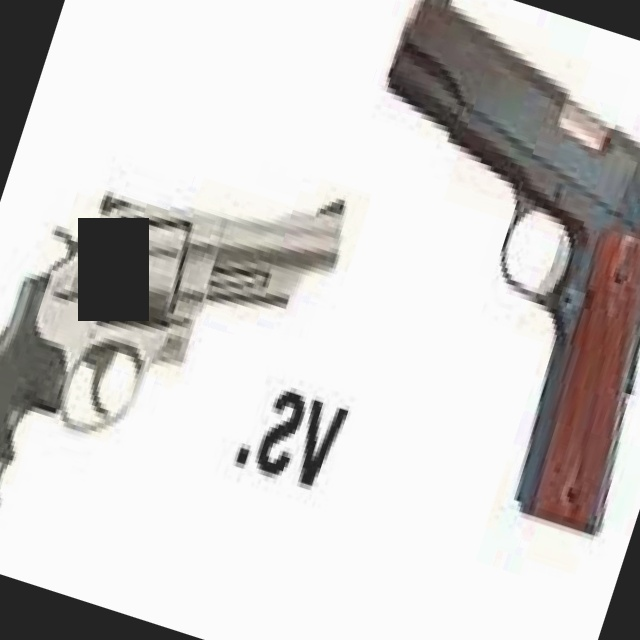gun: (257, 0, 640, 588), (0, 73, 373, 640)
